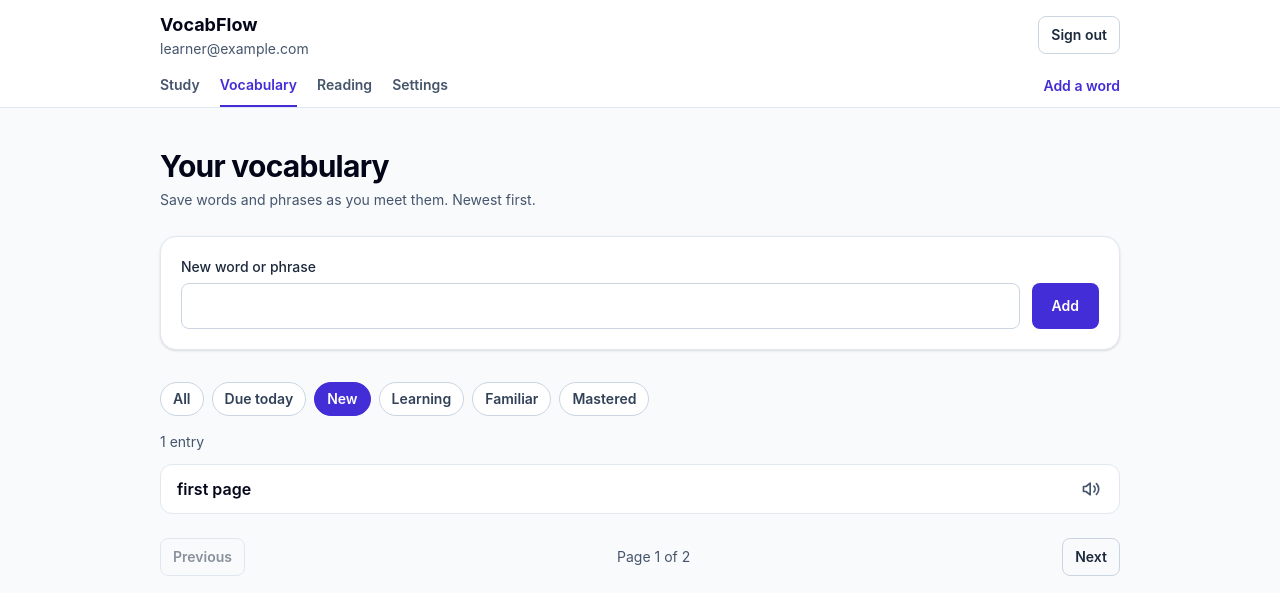
Test: paging keeps the list
The image size is (1280, 593).
Expected: the text "first page" is shown, [177,477,251,501]
Click the button "Next".
click(1091, 557)  # box [1062,538,1120,576]
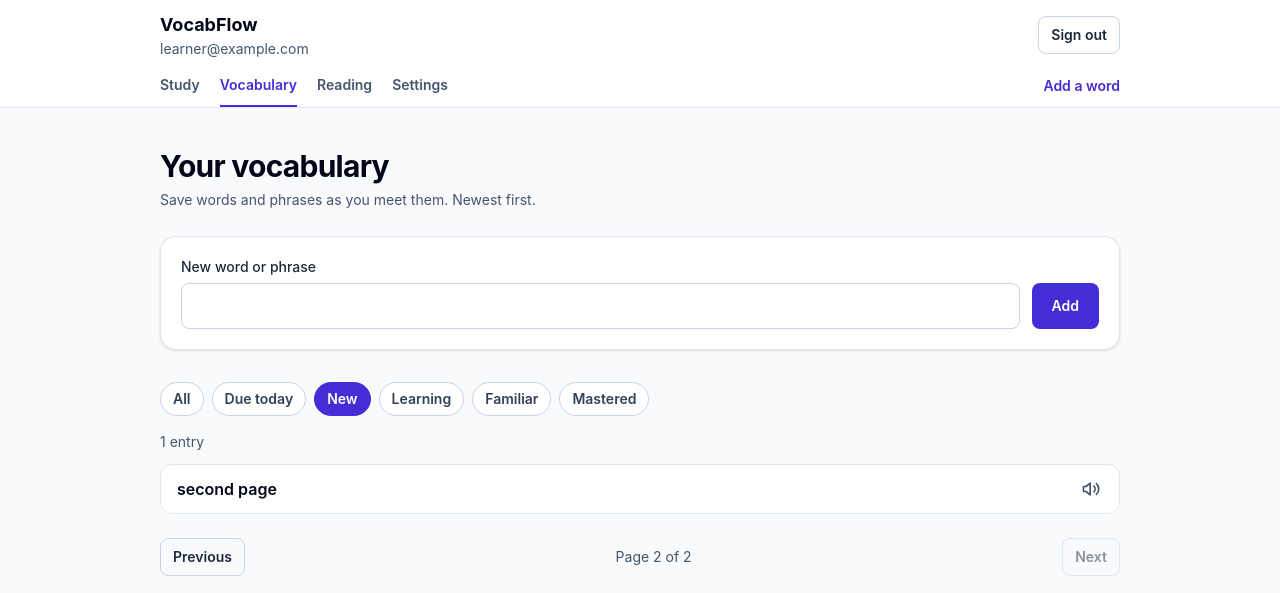
Result: the text "second page" is shown at [177,477,277,501]
